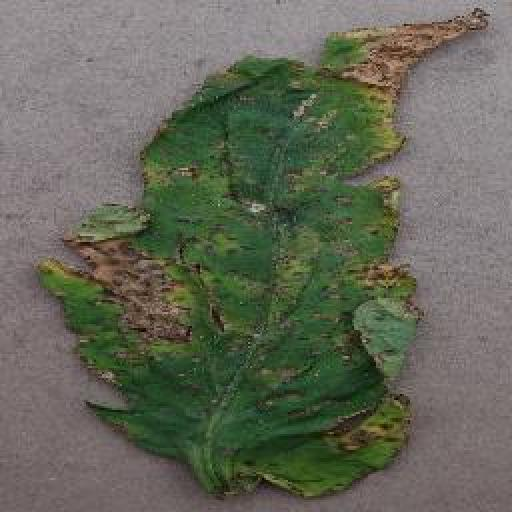Bacterial Spot: (38, 5, 494, 504)
